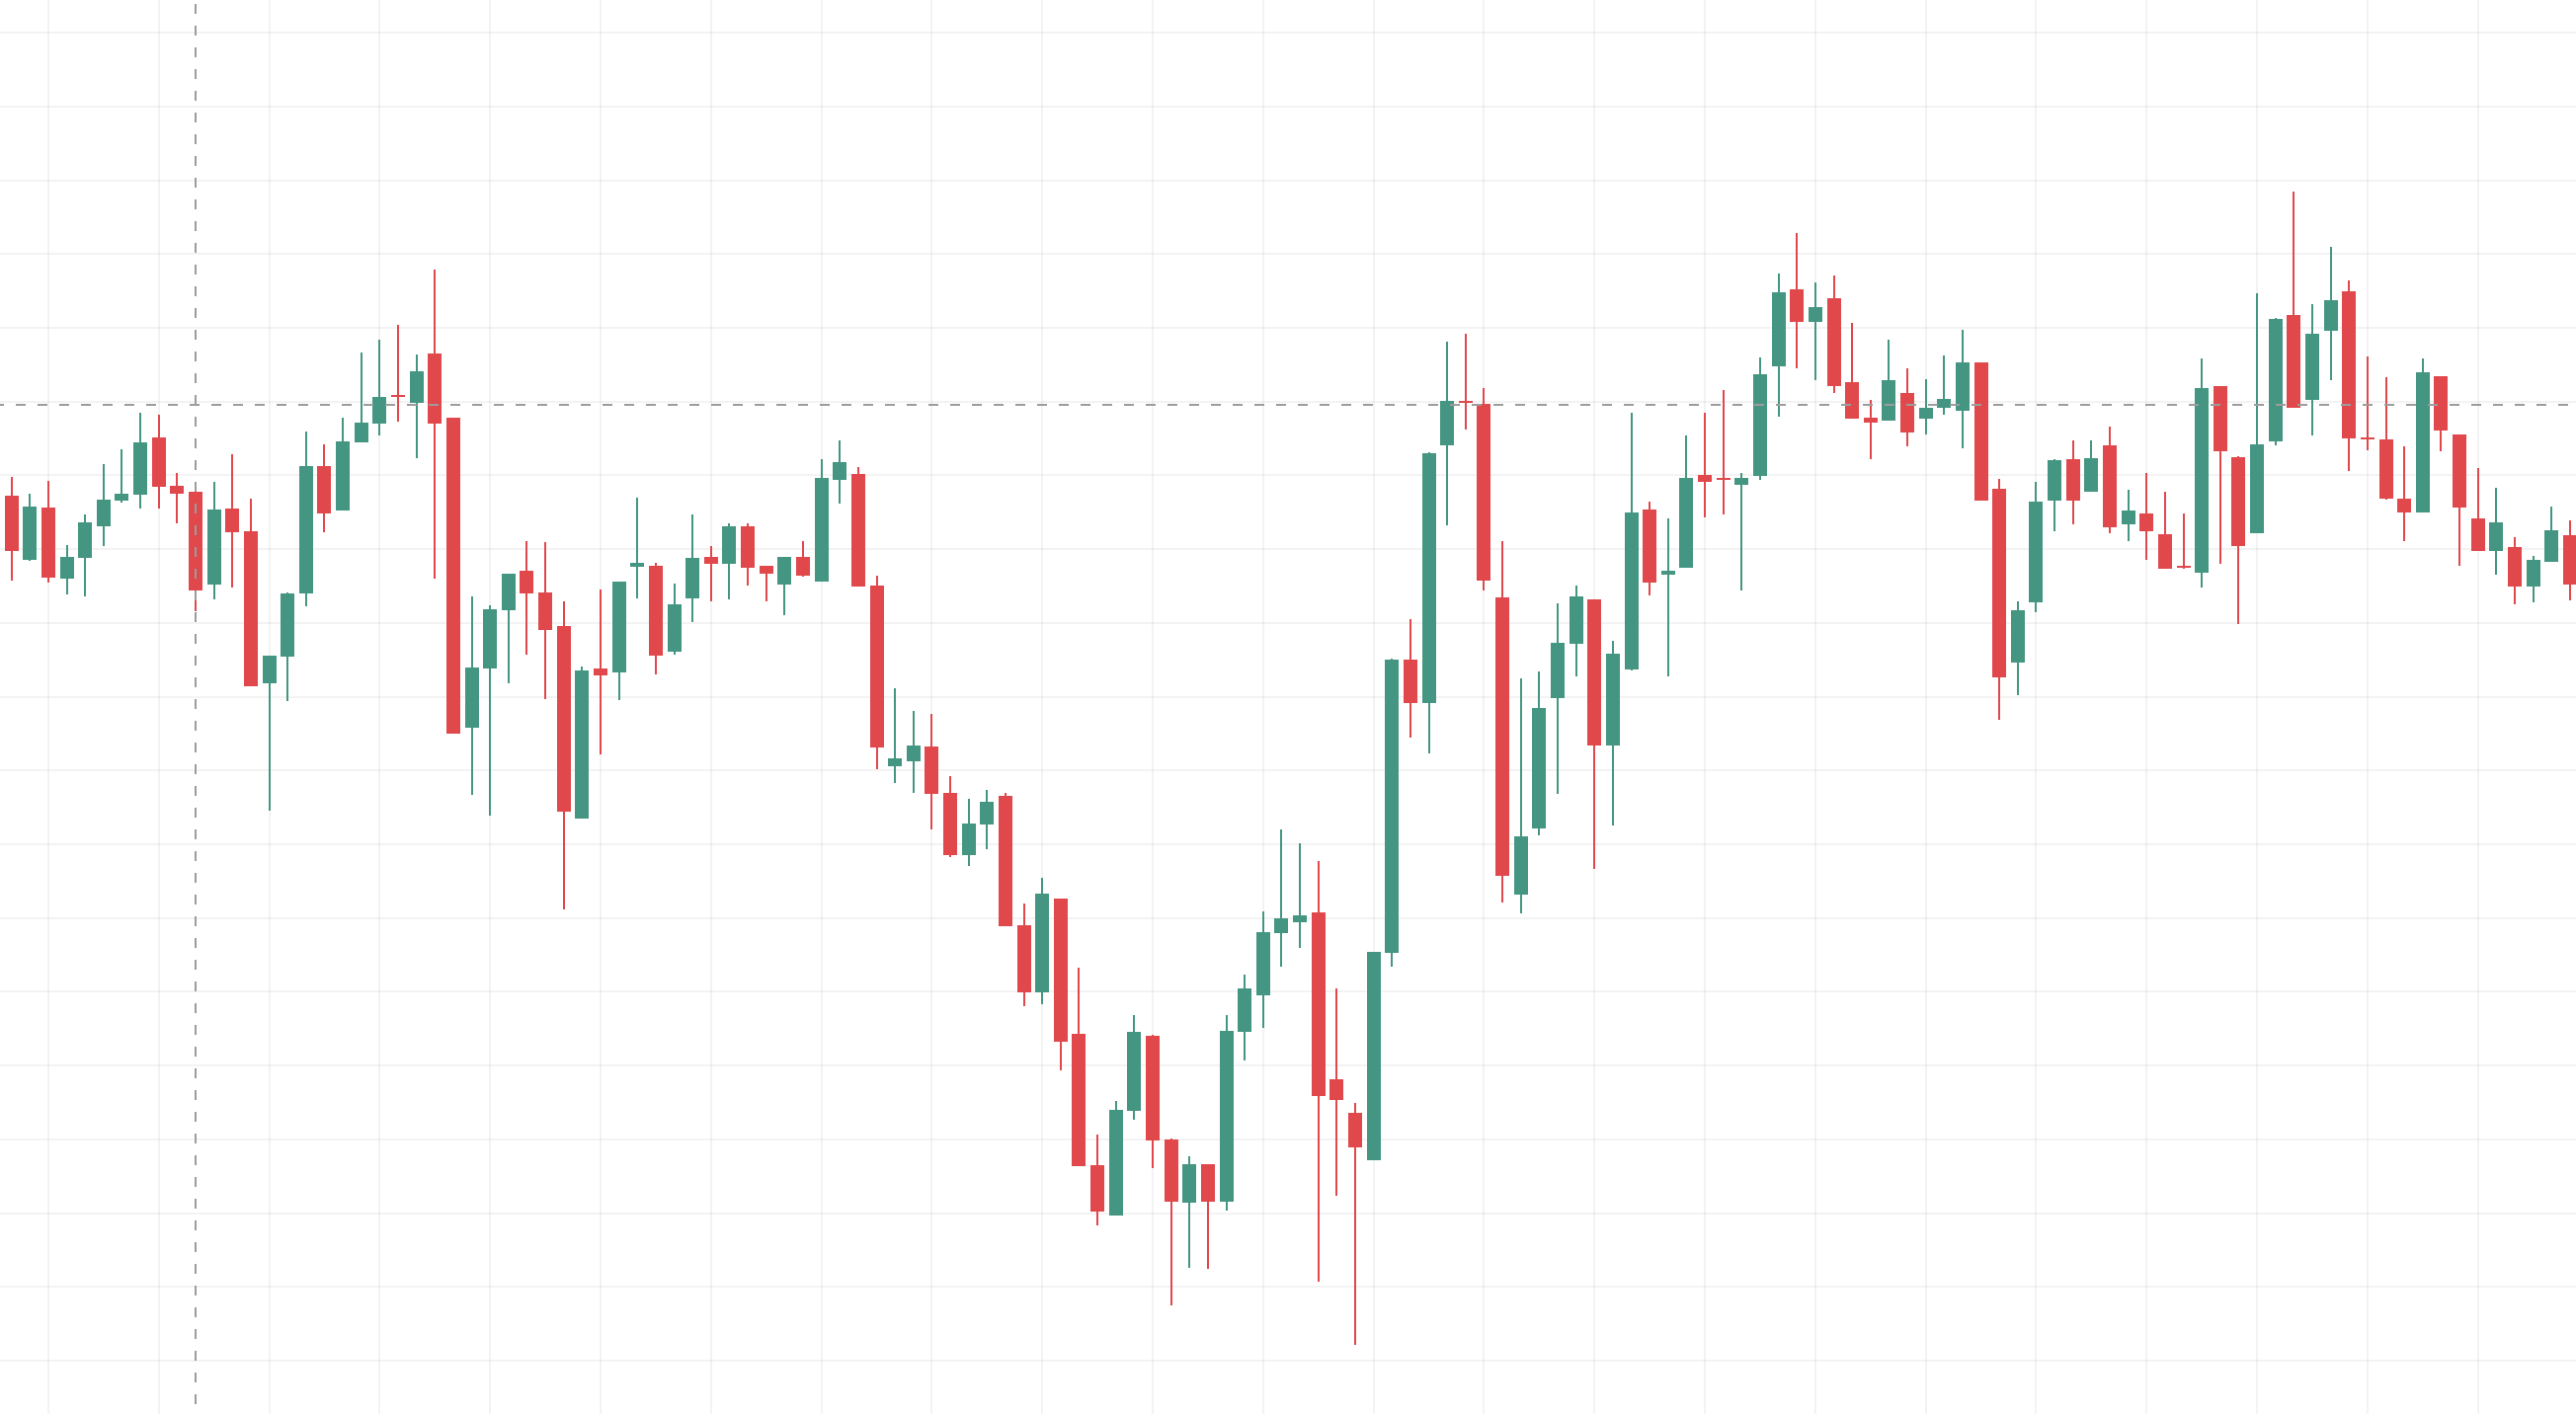V-turn: (788, 251, 1146, 1321)
